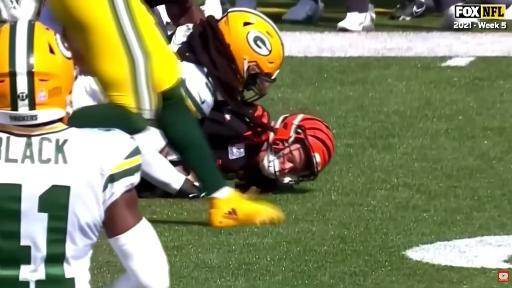Helmet: (0, 20, 74, 125), (219, 8, 284, 100), (262, 114, 334, 183), (244, 122, 269, 143)
Jersey: (0, 124, 141, 287), (180, 61, 219, 117), (179, 62, 217, 118)
Player: (47, 0, 284, 226), (0, 21, 169, 287), (169, 9, 284, 129), (170, 9, 283, 119), (203, 103, 334, 190)
